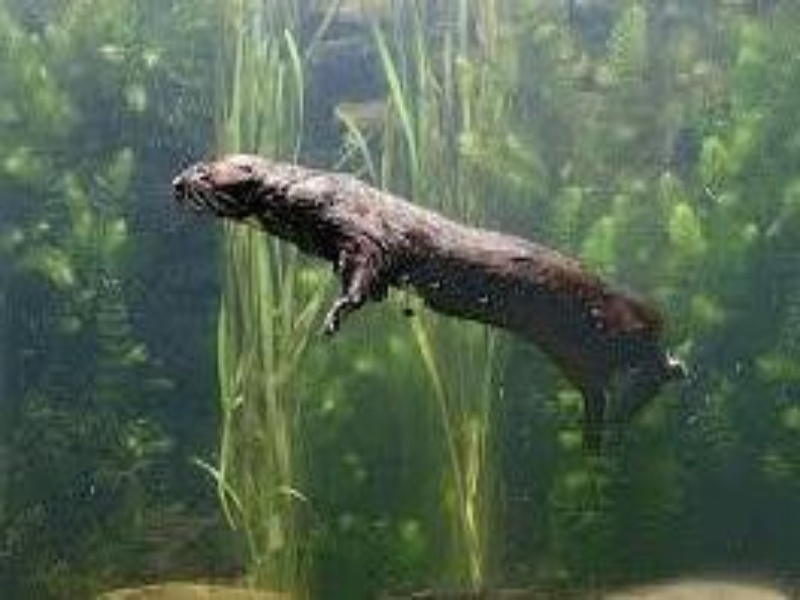minkish: (170, 150, 687, 465)
